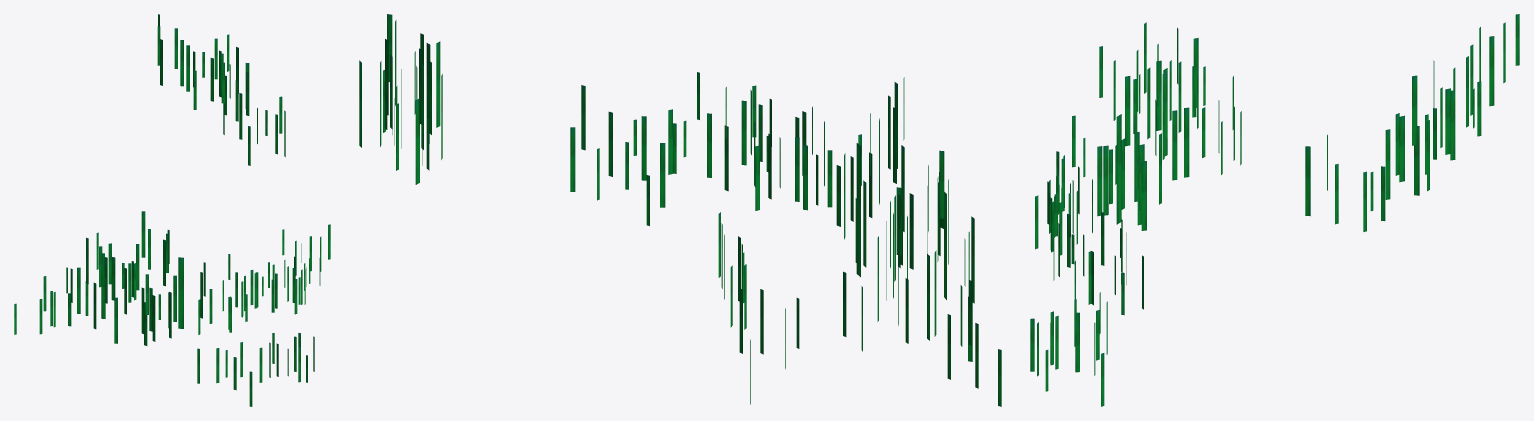
Rendered from TheOctagon_Tree_GStrips.gltf.
The picture shows the model from 3 angles, left to right: view 1: azimuth 30°, elevation 25°; view 2: azimuth 150°, elevation 25°; view 3: azimuth 270°, elevation 25°; orthographic projection. The views are drawn at different scales.
Visible parts, largest first — view 1: TheOctagon_Tree_GStrips; view 2: TheOctagon_Tree_GStrips; view 3: TheOctagon_Tree_GStrips.
Part boxes in pixels (<box>): TheOctagon_Tree_GStrips: <box>14,14,330,406</box>; TheOctagon_Tree_GStrips: <box>359,14,1001,406</box>; TheOctagon_Tree_GStrips: <box>1030,14,1519,406</box>.
Size of the model in its own units: 8.82 by 8.12 by 8.45.
129 materials, 129 textured.
